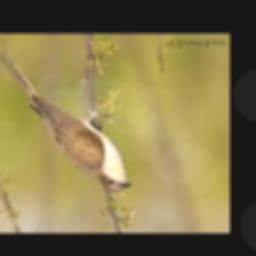Cuckoo: (0, 52, 131, 193)
